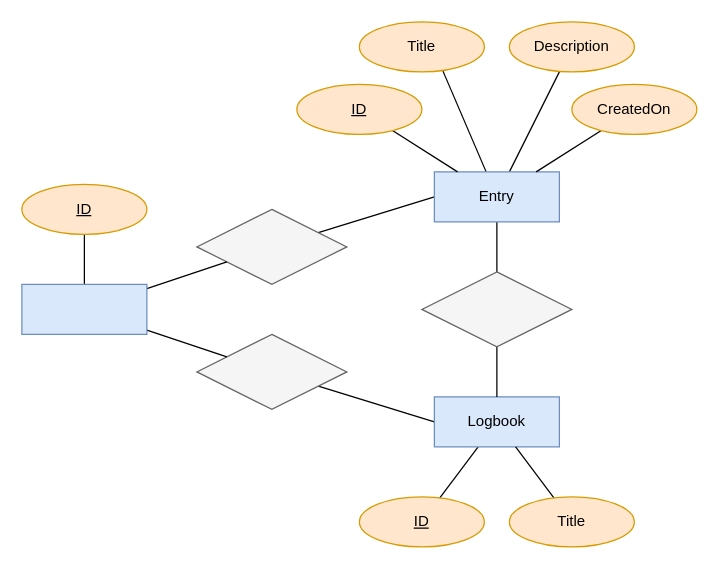
This 719x569 diagram has some shape labels left out. The centre of each missing label's shape, as x and y in pixels:
"Belongs to" goes at point (496, 309).
"CreatedBy" goes at point (271, 246).
"OwnedBy" goes at point (271, 371).
"User" goes at point (84, 308).
